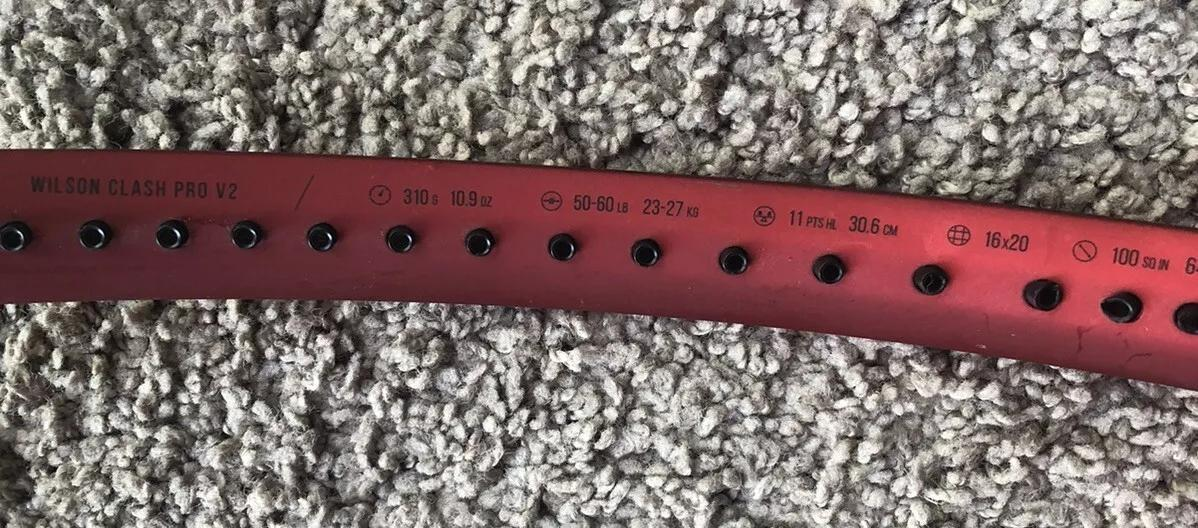Tennis-Racket: (0, 150, 1198, 388)
